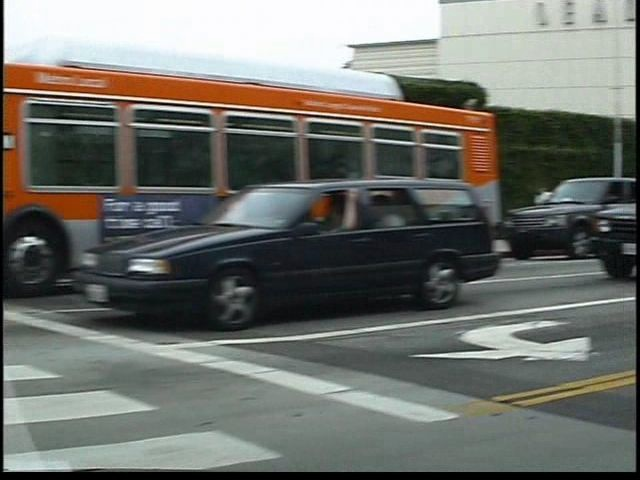person: (550, 179, 579, 241)
